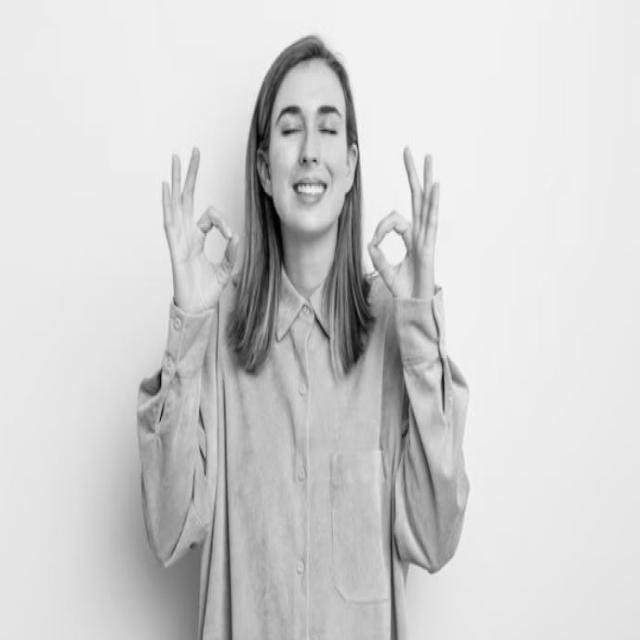perfect: (156, 141, 242, 321), (363, 134, 444, 300)
